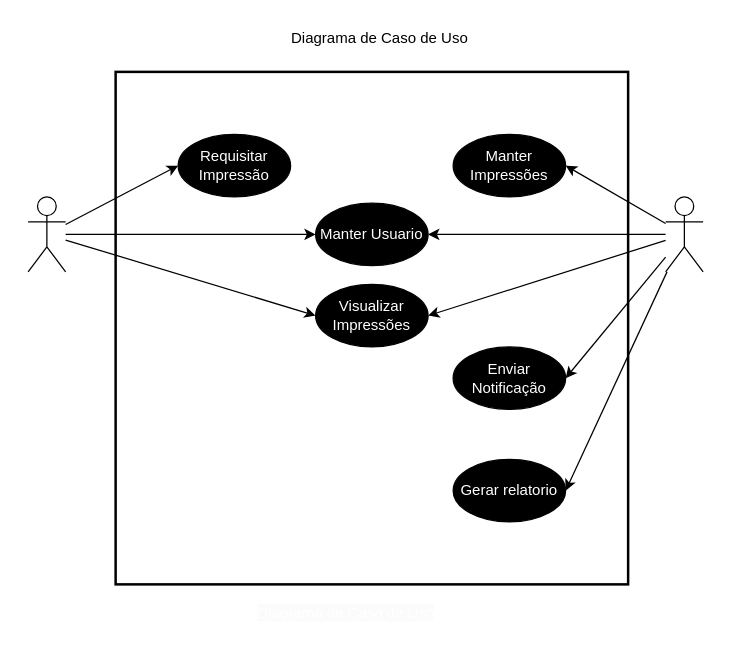
This 753x661 diagram has some shape labels left out. Here are the shapes that lost their labels. From the top down, the centre of each, then its label:
the point at 46,234: Usuario
the point at 683,234: Administrador
